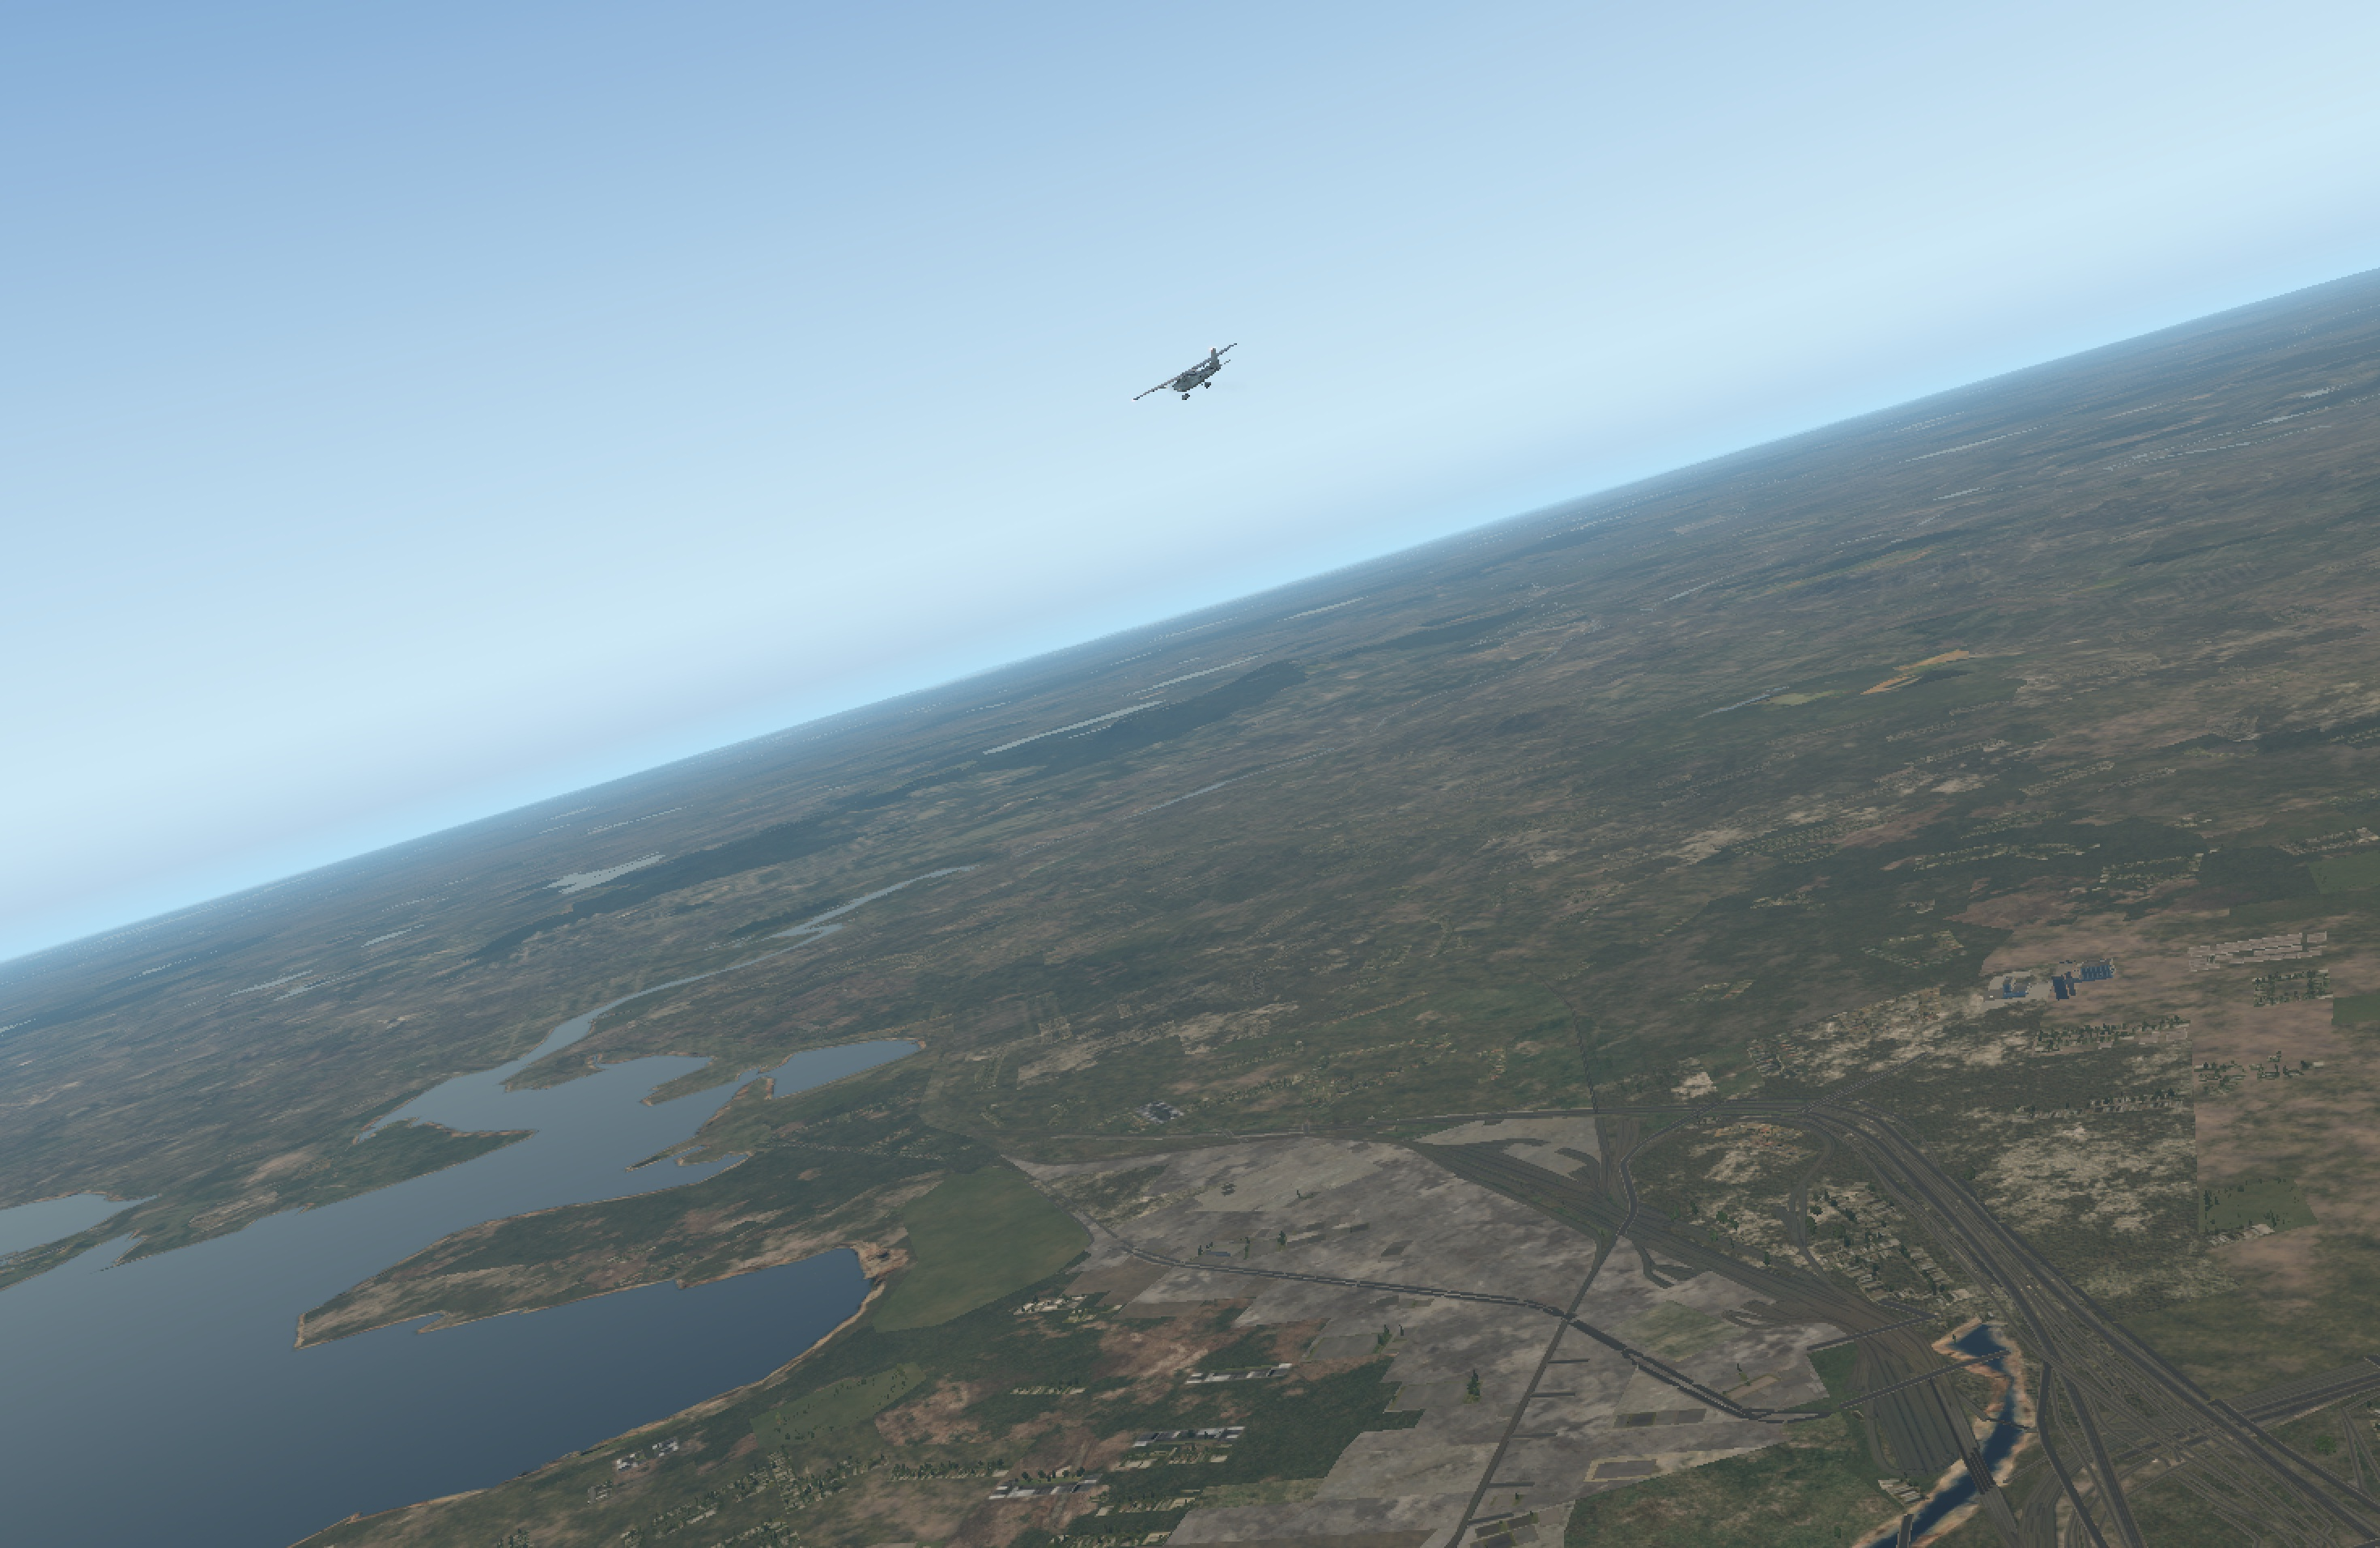aircraft: (1141, 363, 1235, 397)
